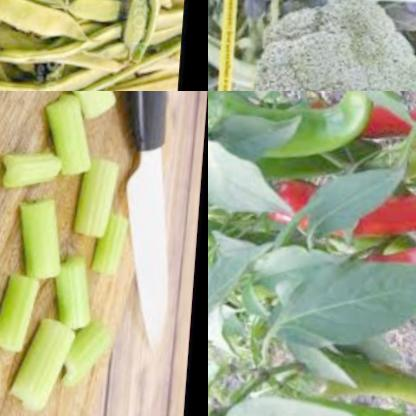beans: (0, 0, 197, 91)
broccoli: (248, 0, 416, 91)
celery: (5, 312, 81, 416), (13, 191, 70, 283), (41, 91, 99, 180), (72, 150, 124, 243), (0, 267, 48, 361), (65, 316, 124, 392), (53, 252, 100, 336), (91, 205, 133, 282), (0, 143, 68, 190), (54, 91, 123, 118)
hot pepper: (208, 91, 387, 167), (226, 124, 403, 195), (255, 172, 416, 246), (280, 333, 416, 416), (350, 147, 416, 301), (266, 383, 416, 416), (352, 91, 416, 152), (375, 123, 416, 182)
